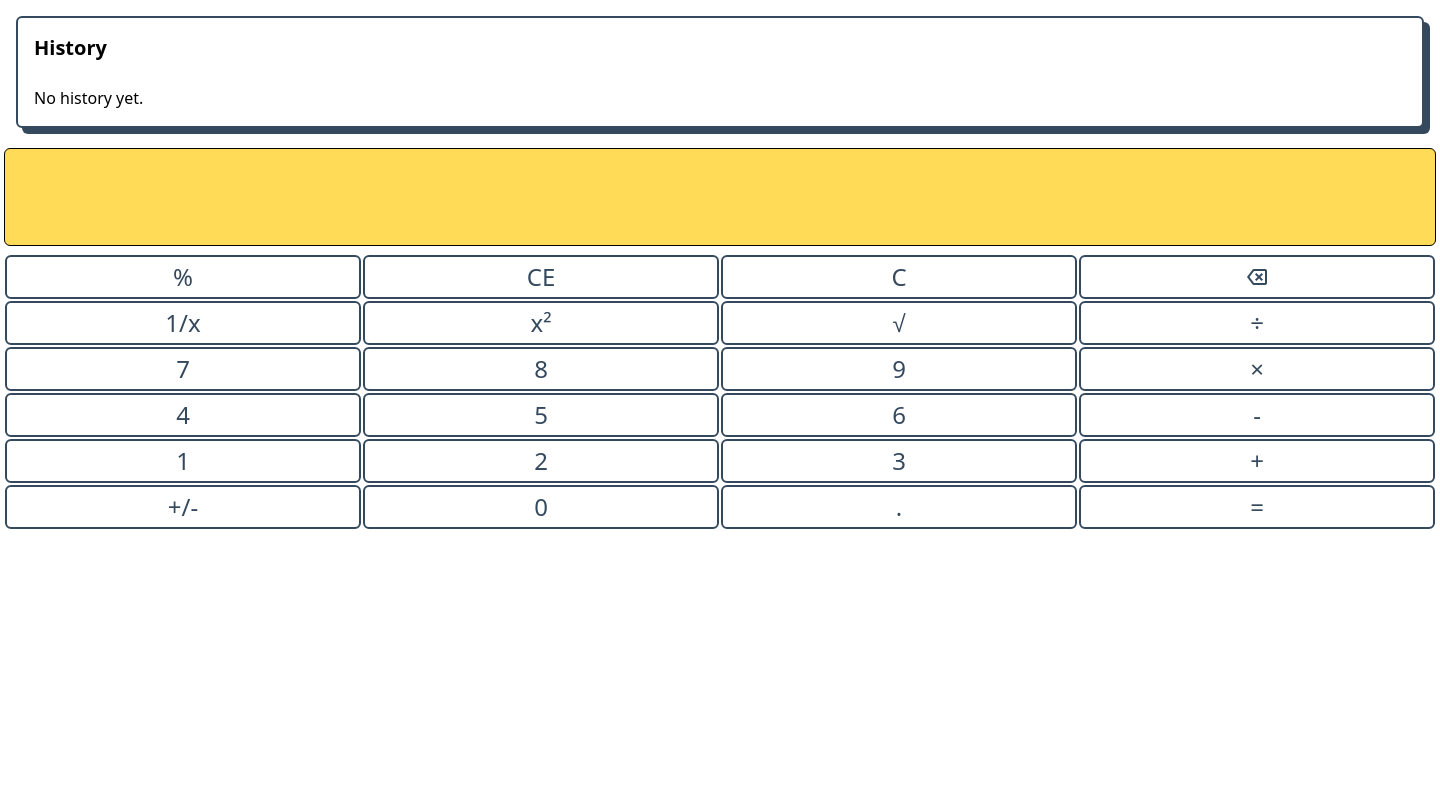
Scenario: Component: CalculatorContainer › can evaluate with incomplete operands
This screenshot has width=1440, height=810.
// Find the digit "1" button and click it
Click the button with class "digital-button" showing "1".
click(183, 461)  # box [5,439,361,483]
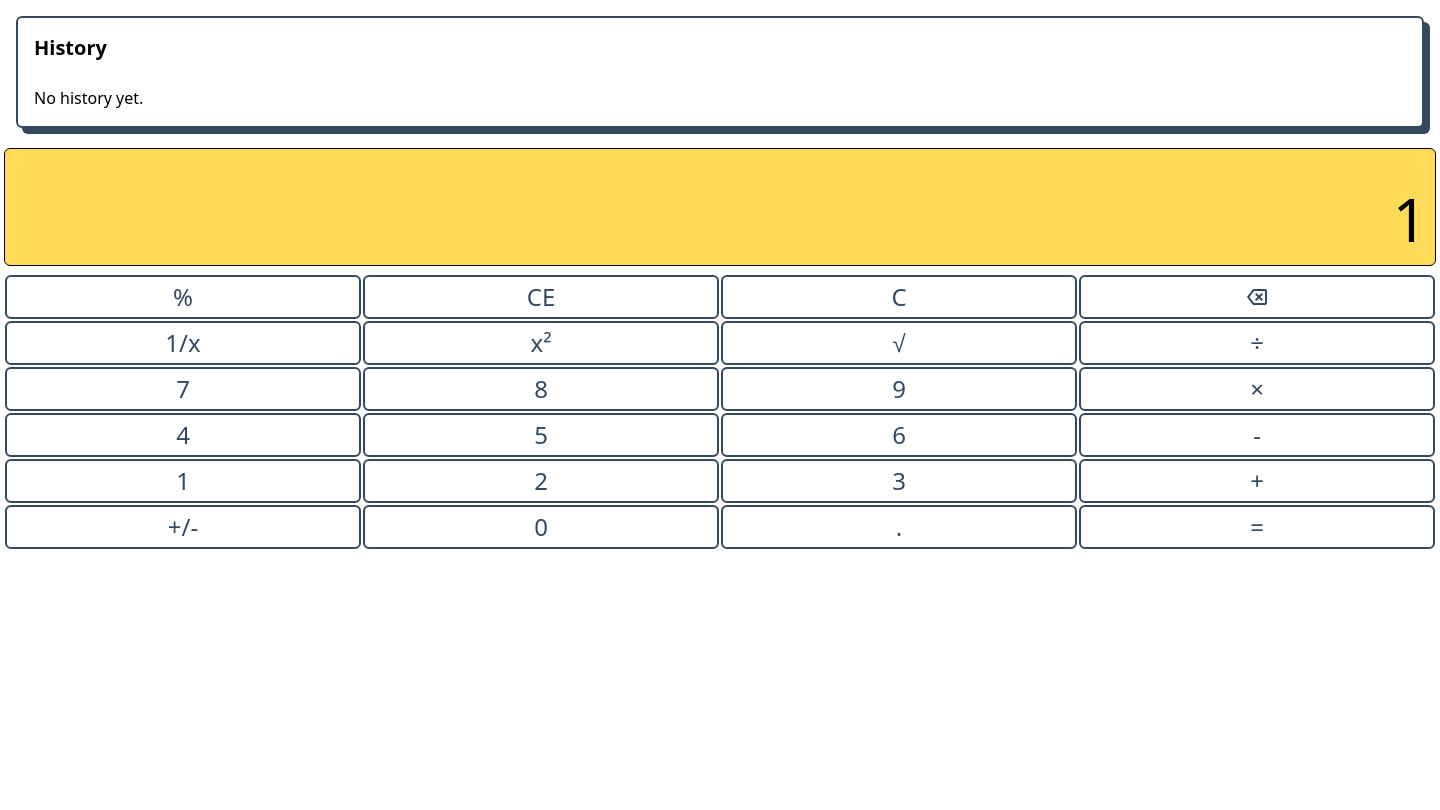
Result: the text with class "entry-screen" reads "1" at [1393,178,1427,260]
// Find the Addition button and click it
Click the button with class "operational-button" showing "+".
click(1257, 481)  # box [1079,459,1435,503]
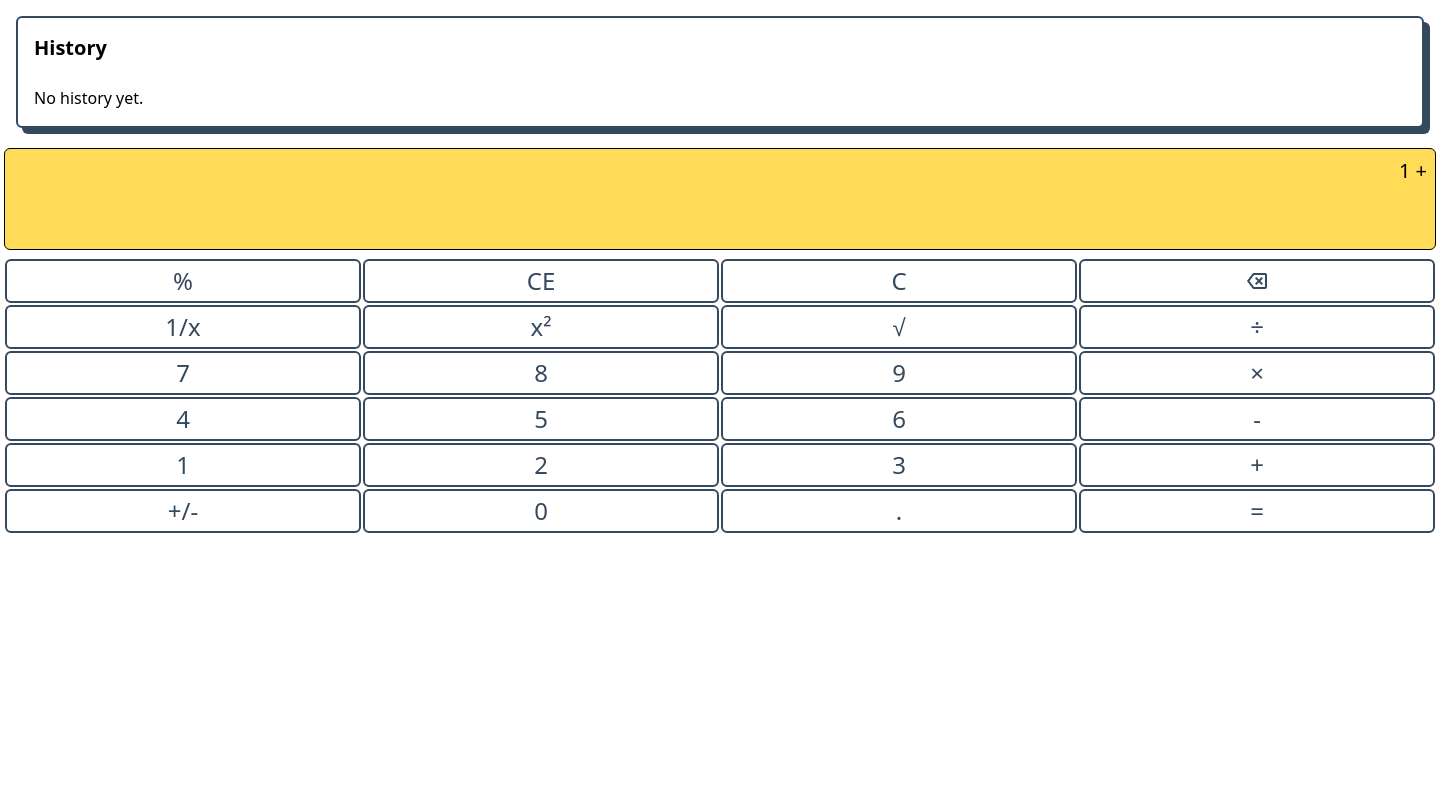
Result: the text with class "expression-screen" reads "1 +" at [1399,157,1427,184]
// Find the Equal button and click it
Click the button with class "evaluation-button" showing "=".
click(1257, 511)  # box [1079,489,1435,533]
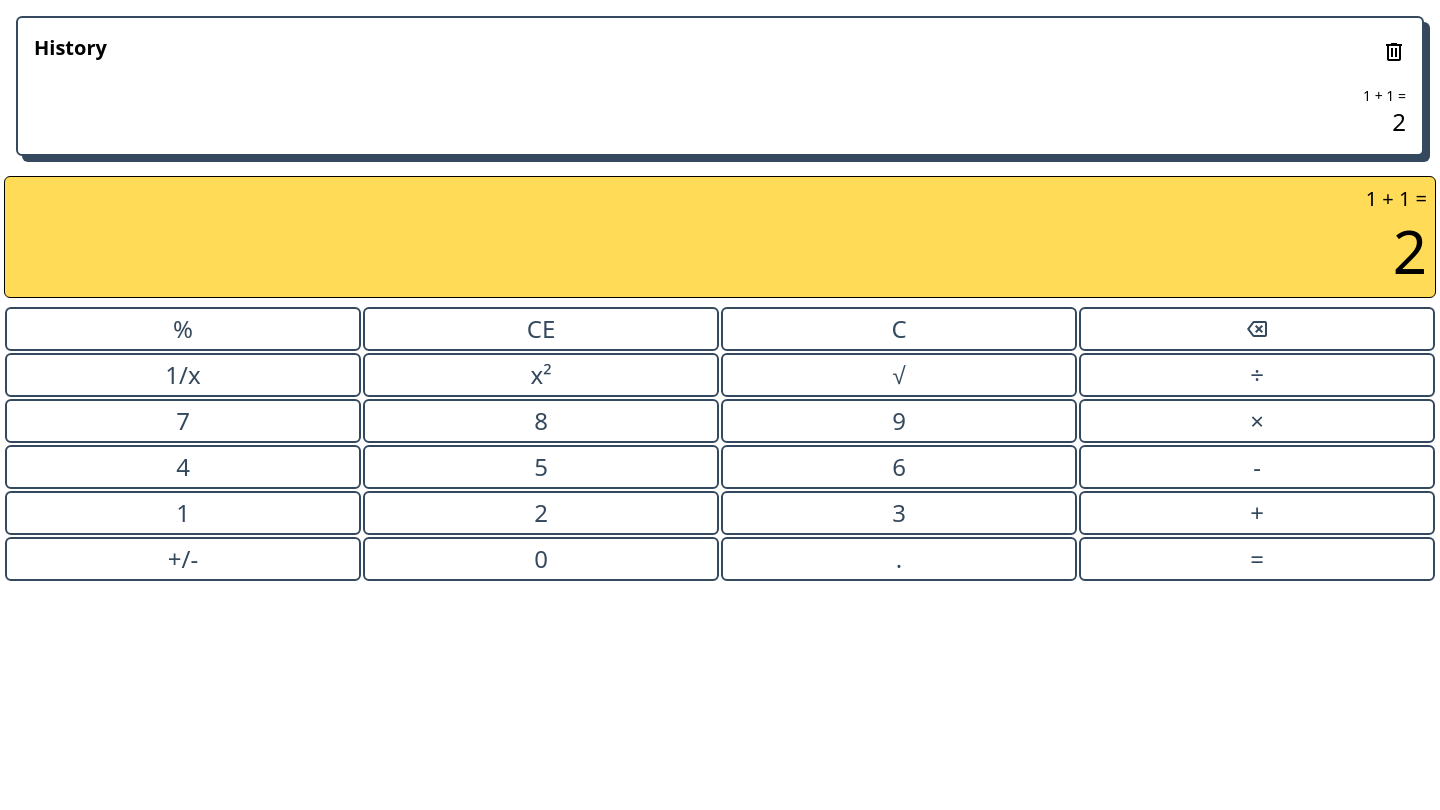
Result: the text with class "expression-screen" reads "1 + 1 =" at [1366,185,1427,212]
Result: the text with class "entry-screen" reads "2" at [1393,210,1427,292]
